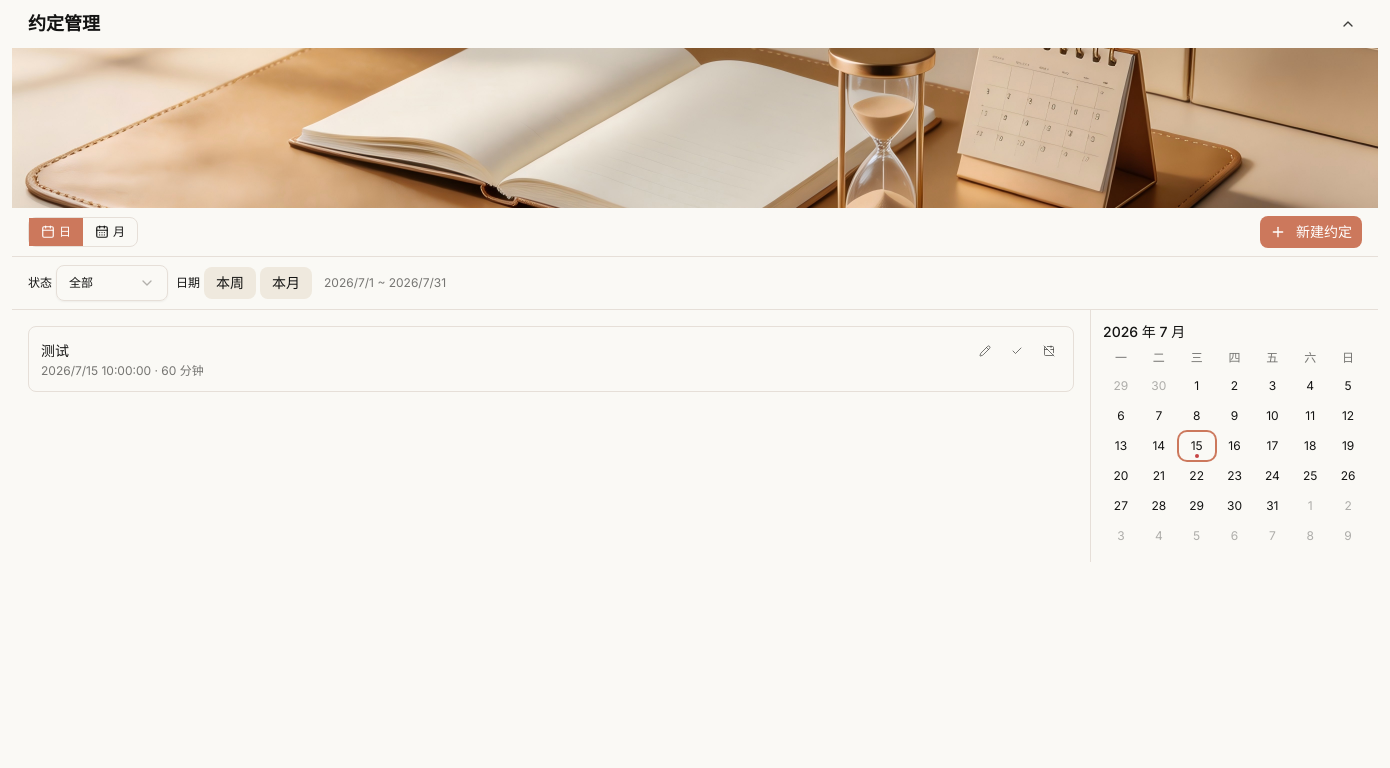
Test case: [026] AppointmentWorkspace › 点击月按钮切到 MonthView
Click the button named "月视图": {"x": 110, "y": 232} [83,218,137,246]
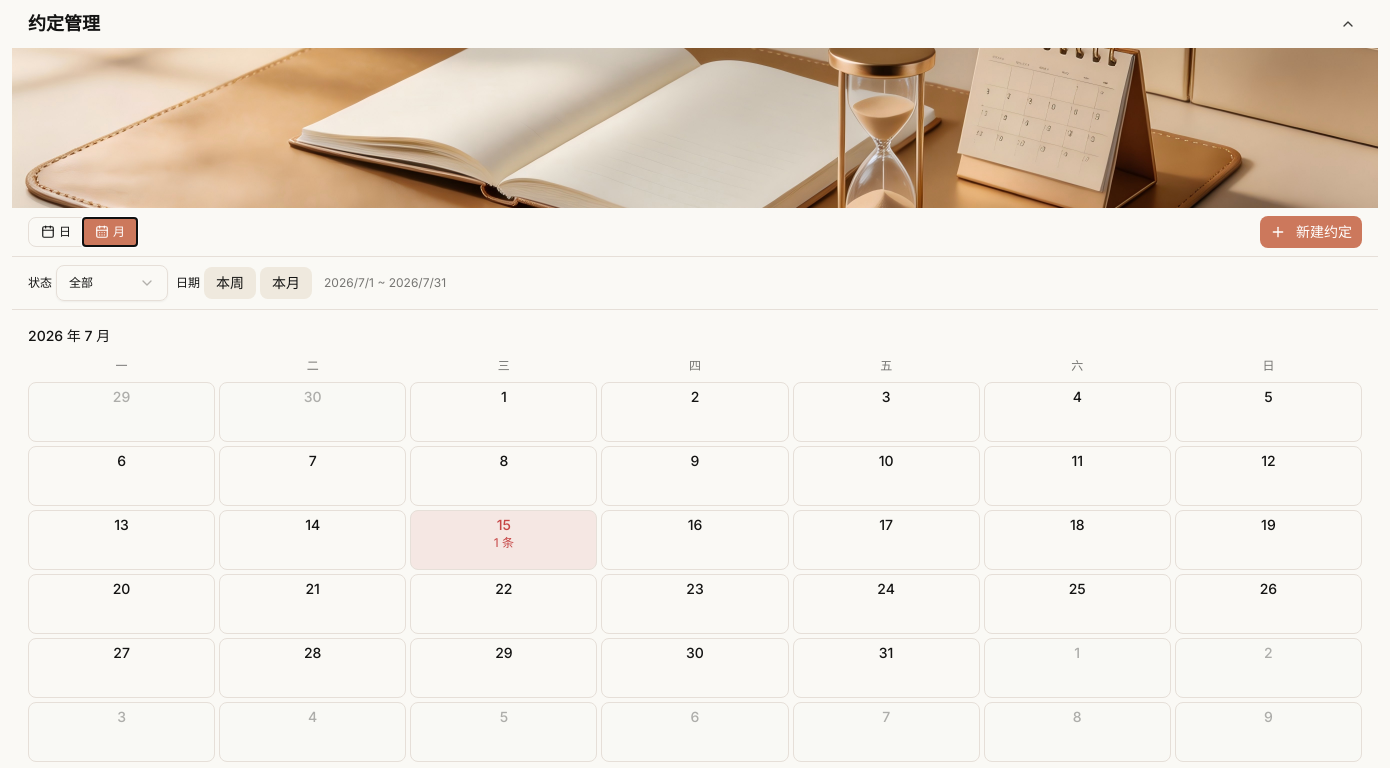
Now the number of cells is 42
